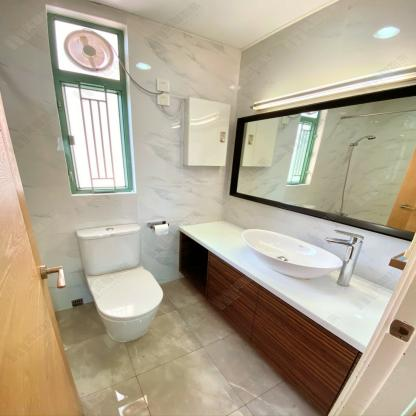Exhaust Fan: (60, 23, 117, 77)
Faucet: (325, 226, 365, 287)
Toilet: (72, 220, 164, 341)
Toilet Sink: (242, 230, 343, 278)
Water Heater: (181, 97, 232, 171)
